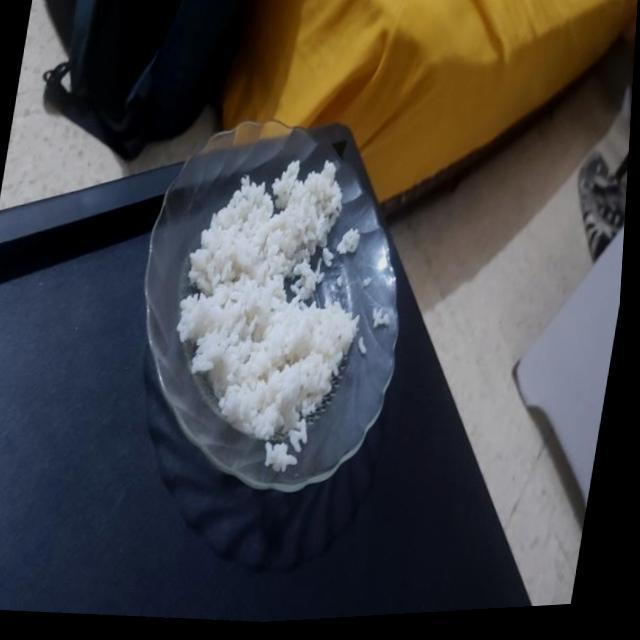nasi_putih: (176, 160, 358, 451)
